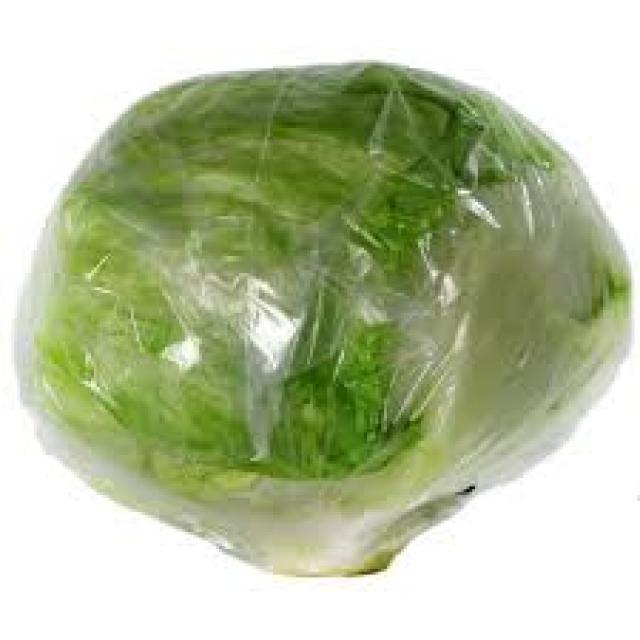Lettuce: (18, 62, 632, 576)
